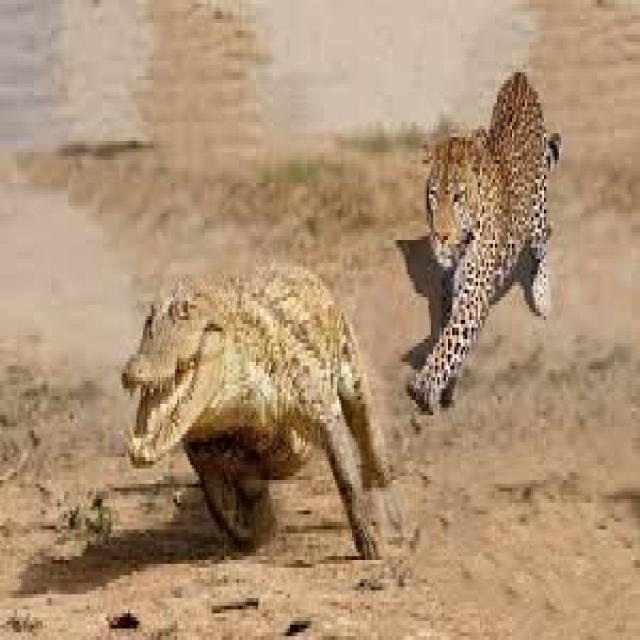Jaguar: (409, 57, 572, 434)
